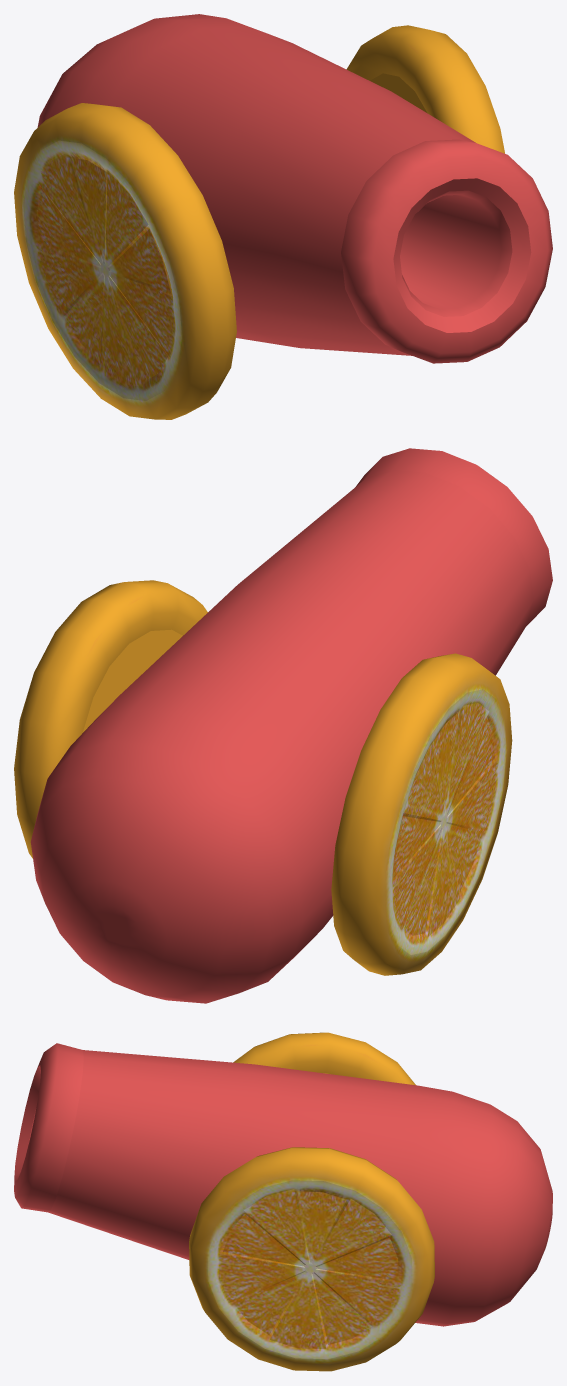
Rendered from cannon.fbx.
3 views of the same model, one above another, from view 1: azimuth 30°, elevation 25°; view 2: azimuth 150°, elevation 25°; view 3: azimuth 270°, elevation 25° (orthographic). The views are drawn at different scales.
Visible parts, largest first — view 1: Cylinder002; view 2: Cylinder002; view 3: Cylinder002.
Boxes of the visible parts, x1,y1,x2,y2 form: Cylinder002: (14,14,552,419); Cylinder002: (14,448,552,1003); Cylinder002: (14,1032,552,1371).
Bounding box in the file's own units: 42.11 × 38 × 69.97.
Materials: 2 (2 with a texture image).
